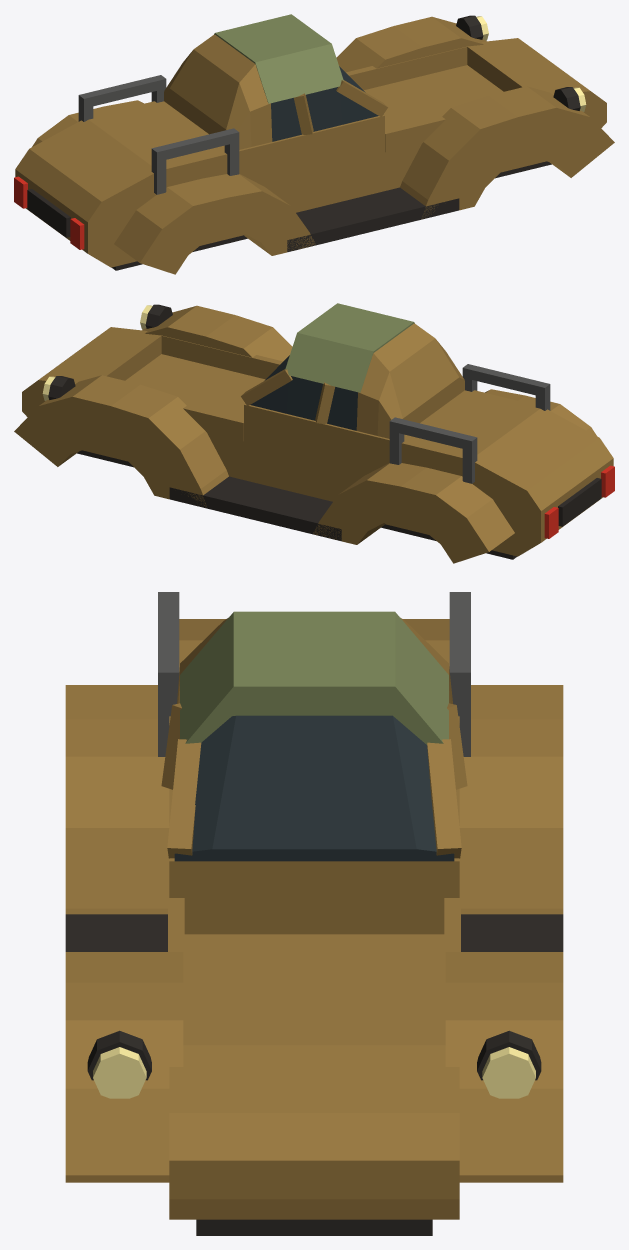
Rendered from base_courier.glb.
3 renders of one model, top to bottom at view 1: azimuth 30°, elevation 25°; view 2: azimuth 150°, elevation 25°; view 3: azimuth 270°, elevation 25°, orthographic. The views are drawn at different scales.
Visible parts, largest first — view 1: base_courier; view 2: base_courier; view 3: base_courier.
Boxes of the visible parts, box(x1,y1,x2,y2) form: base_courier: box(14, 14, 614, 274); base_courier: box(14, 303, 614, 563); base_courier: box(65, 592, 563, 1235).
Size of the model in its own units: 4.51 by 1.36 by 1.86.
